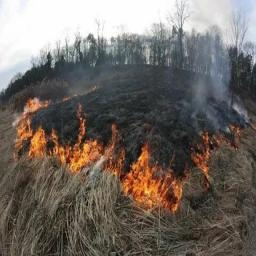Low smoke: (24, 26, 252, 163)
Small fire: (0, 88, 196, 222)
